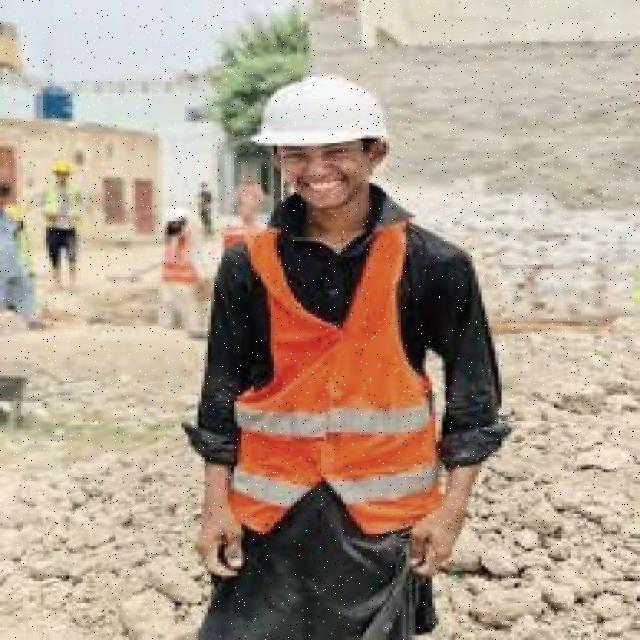Helmet: (253, 73, 389, 149)
Mask: (224, 198, 433, 544)
